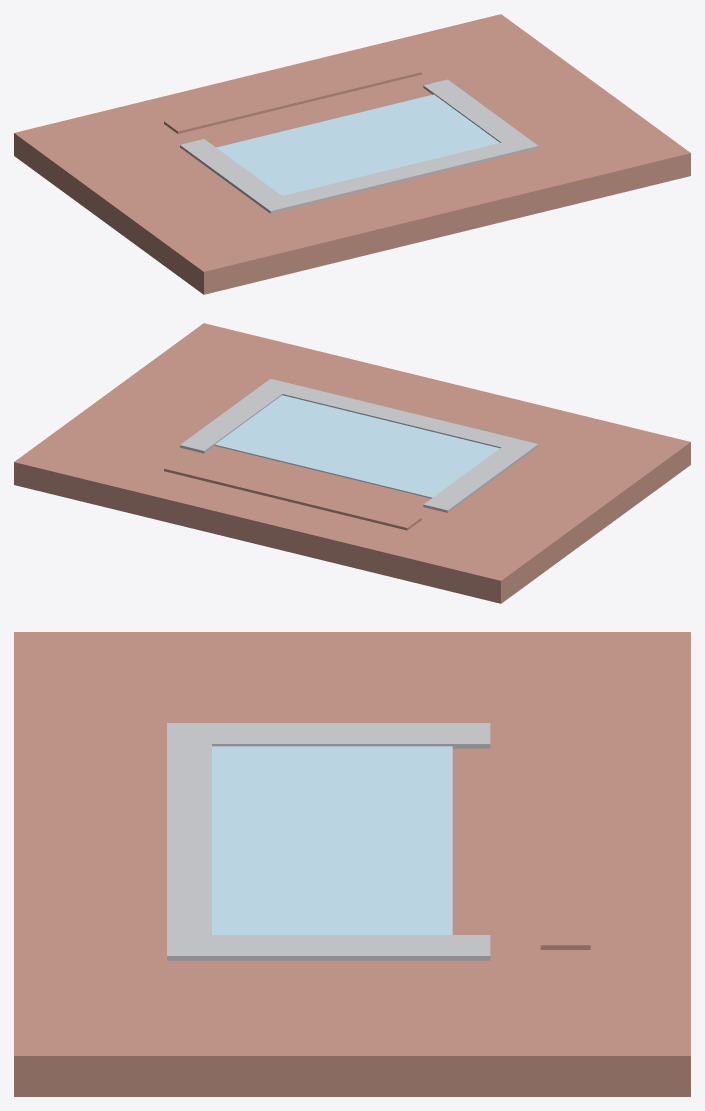
File: garage_wall_window.glb
3 views of the same model, one above another, from view 1: azimuth 30°, elevation 25°; view 2: azimuth 150°, elevation 25°; view 3: azimuth 270°, elevation 25° (orthographic). The views are drawn at different scales.
Parts seen in each view (by area): view 1: wall_0, window_1, lower_2, frame_t_5, frame_l_3, frame_r_4; view 2: wall_0, window_1, lower_2, frame_t_5, frame_l_3, frame_r_4; view 3: wall_0, window_1, lower_2, frame_t_5, frame_r_4, frame_l_3.
Part boxes in pixels (<box>): wall_0: <box>14,14,690,294</box>; window_1: <box>216,94,499,195</box>; lower_2: <box>164,62,421,133</box>; frame_t_5: <box>258,141,538,213</box>; frame_l_3: <box>180,139,287,208</box>; frame_r_4: <box>423,79,531,146</box>; wall_0: <box>14,323,690,603</box>; window_1: <box>214,395,499,498</box>; lower_2: <box>164,458,421,530</box>; frame_t_5: <box>264,378,538,450</box>; frame_l_3: <box>423,443,532,512</box>; frame_r_4: <box>180,383,287,453</box>; wall_0: <box>14,632,690,1096</box>; window_1: <box>212,746,452,934</box>; lower_2: <box>540,733,590,949</box>; frame_t_5: <box>167,723,211,960</box>; frame_r_4: <box>189,935,490,960</box>; frame_l_3: <box>189,723,490,748</box>.
Bounding box in the file's own units: 4 × 0.22 × 2.7.
